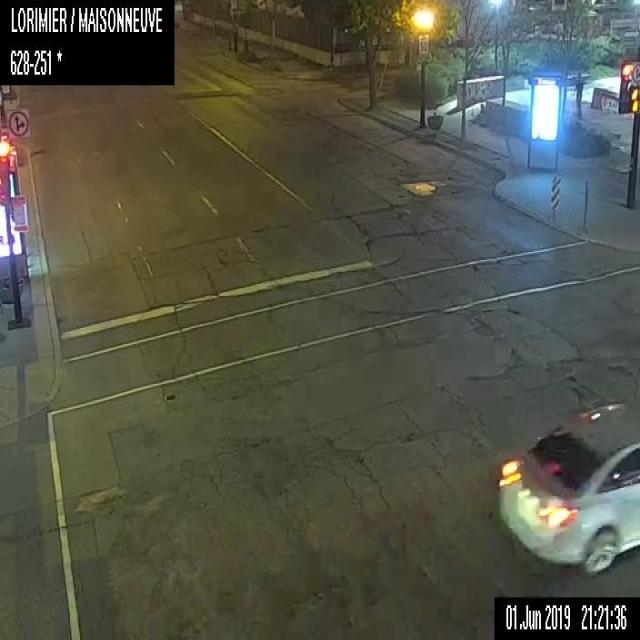pedestrian: (572, 71, 583, 117)
vehicle: (496, 394, 639, 574)
